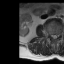CCS_normal: (53, 32, 55, 40)
LFS_normal: (58, 32, 59, 38)
LLS_normal: (55, 33, 57, 40)
RFS_normal: (50, 32, 52, 38)
RLS_normal: (52, 32, 54, 39)
